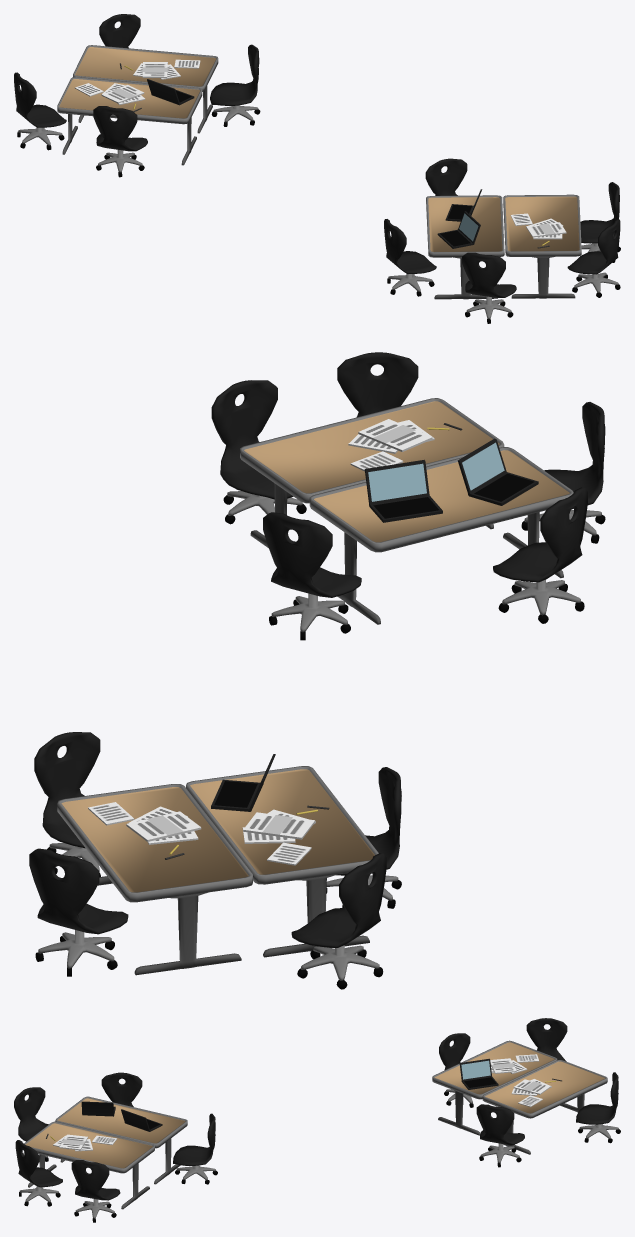
Rendered from d-roomcomp-t-studentClub-in.glb.
3 renders of one model, top to bottom at view 1: azimuth 30°, elevation 25°; view 2: azimuth 150°, elevation 25°; view 3: azimuth 270°, elevation 25°, orthographic. The views are drawn at different scales.
Parts seen in each view (by area): view 1: officeDesk.010, officeDesk.009, officeDesk.007, officeDesk.008, officeChair.017, officeChair.014, officeChair.013, officeChair.018, officeChair.015, officeChair.020, officeChair.016, officeChair.019 (+6 smaller); view 2: officeDesk.007, officeDesk.008, officeDesk.009, officeDesk.010, officeChair.016, officeChair.019, officeChair.012, officeChair.018, officeChair.015, officeChair.020, officeChair.013, laptop.006 (+7 smaller); view 3: officeDesk.007, officeDesk.010, officeDesk.009, officeDesk.008, officeChair.012, officeChair.020, officeChair.013, officeChair.019, officeChair.016, officeChair.014, officeChair.018, officeChair.015 (+7 smaller).
Part boxes in pixels (<box>): officeDesk.010: <box>503,194,581,298</box>; officeDesk.009: <box>426,195,504,299</box>; officeDesk.007: <box>73,45,218,133</box>; officeDesk.008: <box>57,77,202,165</box>; officeChair.017: <box>93,106,147,177</box>; officeChair.014: <box>462,252,516,323</box>; officeChair.013: <box>567,219,620,297</box>; officeChair.018: <box>14,72,66,150</box>; officeChair.015: <box>384,219,436,296</box>; officeChair.020: <box>210,44,260,126</box>; officeChair.016: <box>425,158,467,195</box>; officeChair.019: <box>99,14,140,48</box>; officeDesk.007: <box>57,784,252,975</box>; officeDesk.008: <box>186,766,378,957</box>; officeDesk.009: <box>309,447,573,624</box>; officeDesk.010: <box>240,398,504,547</box>; officeChair.016: <box>263,512,361,640</box>; officeChair.019: <box>29,848,128,976</box>; officeChair.012: <box>211,380,306,524</box>; officeChair.018: <box>291,853,386,989</box>; officeChair.015: <box>493,487,587,623</box>; officeChair.020: <box>34,732,100,876</box>; officeChair.013: <box>337,352,418,417</box>; laptop.006: <box>364,459,442,522</box>; officeDesk.007: <box>482,1060,607,1154</box>; officeDesk.010: <box>24,1121,154,1209</box>; officeDesk.009: <box>55,1096,187,1184</box>; officeDesk.008: <box>432,1040,557,1135</box>; officeChair.012: <box>71,1160,120,1222</box>; officeChair.020: <box>476,1104,524,1167</box>; officeChair.013: <box>15,1140,62,1206</box>; officeChair.019: <box>576,1072,620,1143</box>; officeChair.016: <box>173,1113,217,1184</box>; officeChair.014: <box>14,1087,48,1161</box>; officeChair.018: <box>526,1018,567,1061</box>; officeChair.015: <box>101,1072,142,1106</box>.
Bounding box in the file's own units: 6.82 × 1.27 × 11.84.
2 materials, 2 textured.
